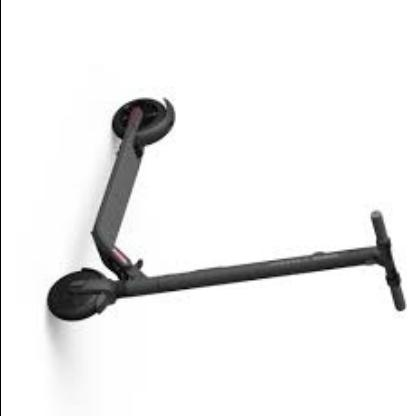bike: (44, 98, 415, 415), (47, 97, 411, 322)
